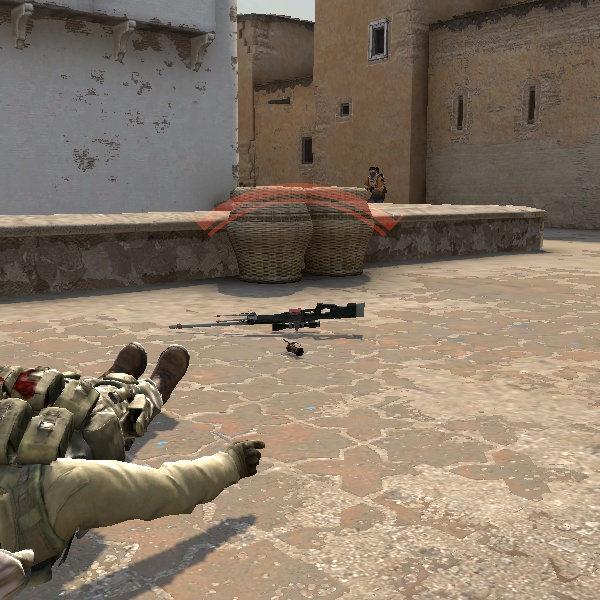t_body: (364, 165, 387, 204)
t_head: (368, 167, 377, 178)
